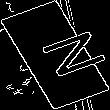N_SW: (14, 26, 96, 84)
